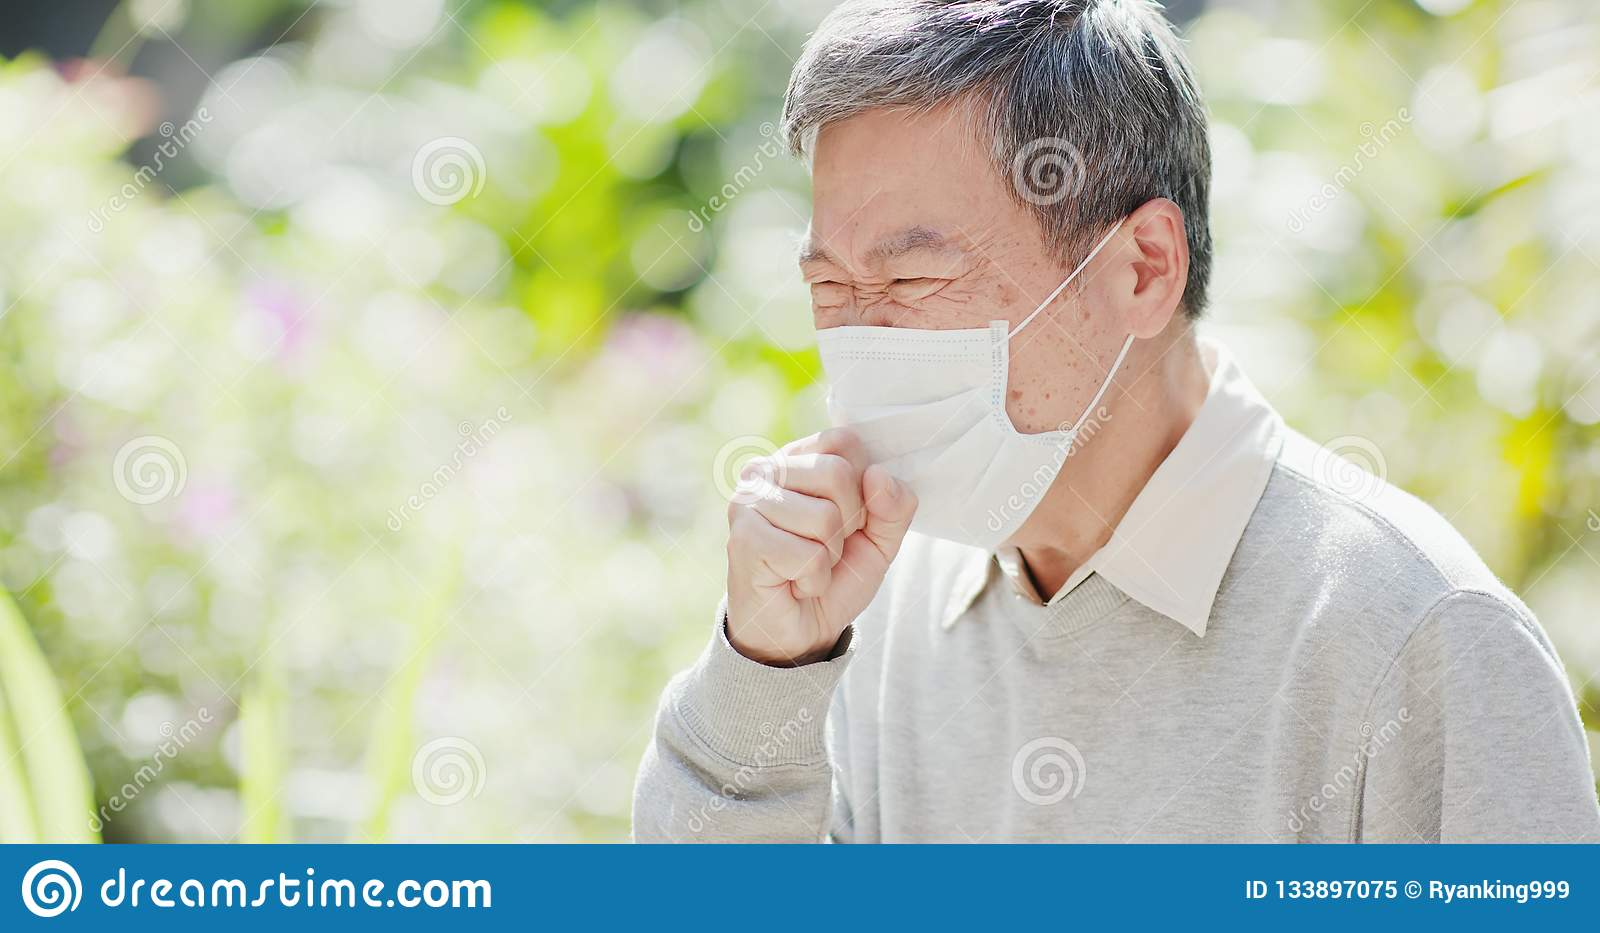mask: (813, 322, 1074, 553)
